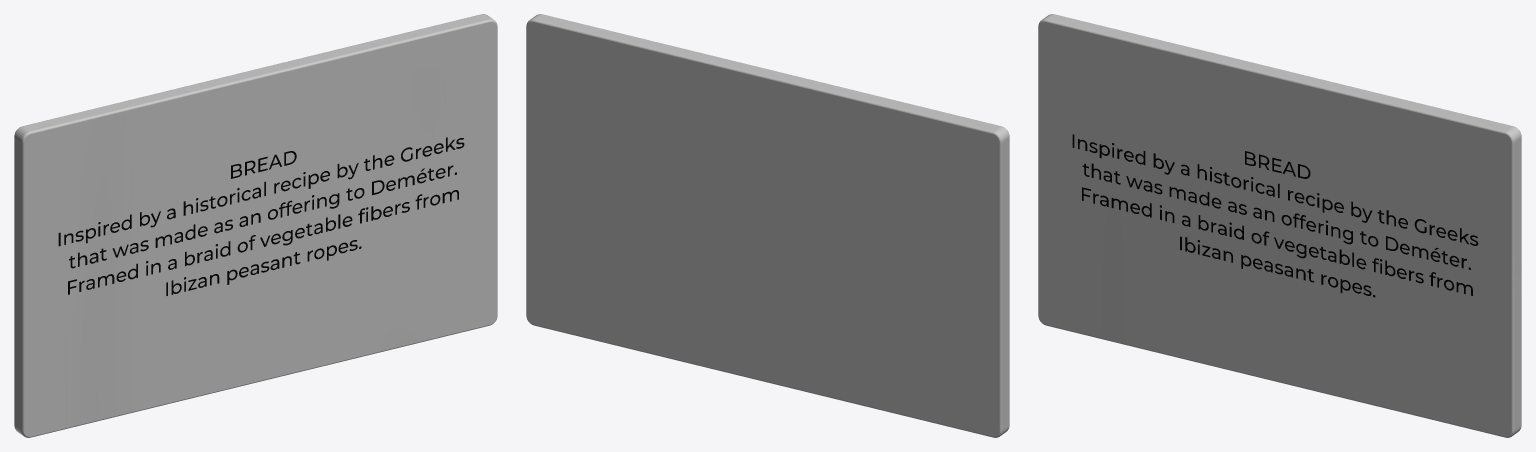
The model's file is Picture4.glb.
The picture shows the model from 3 angles, left to right: view 1: azimuth 30°, elevation 25°; view 2: azimuth 150°, elevation 25°; view 3: azimuth 330°, elevation 25°; orthographic projection.
Parts seen in each view (by area): view 1: Text.002, Text.004; view 2: Text.002; view 3: Text.002, Text.004.
Boxes of the visible parts, left/top/right/bottom form: Text.002: left=14, top=14, right=497, bottom=437; Text.004: left=58, top=137, right=464, bottom=295; Text.002: left=526, top=14, right=1009, bottom=437; Text.002: left=1038, top=14, right=1521, bottom=437; Text.004: left=1072, top=134, right=1478, bottom=297.
Size of the model in its own units: 1.8 by 1.11 by 0.0638.
2 materials, 2 textured.
